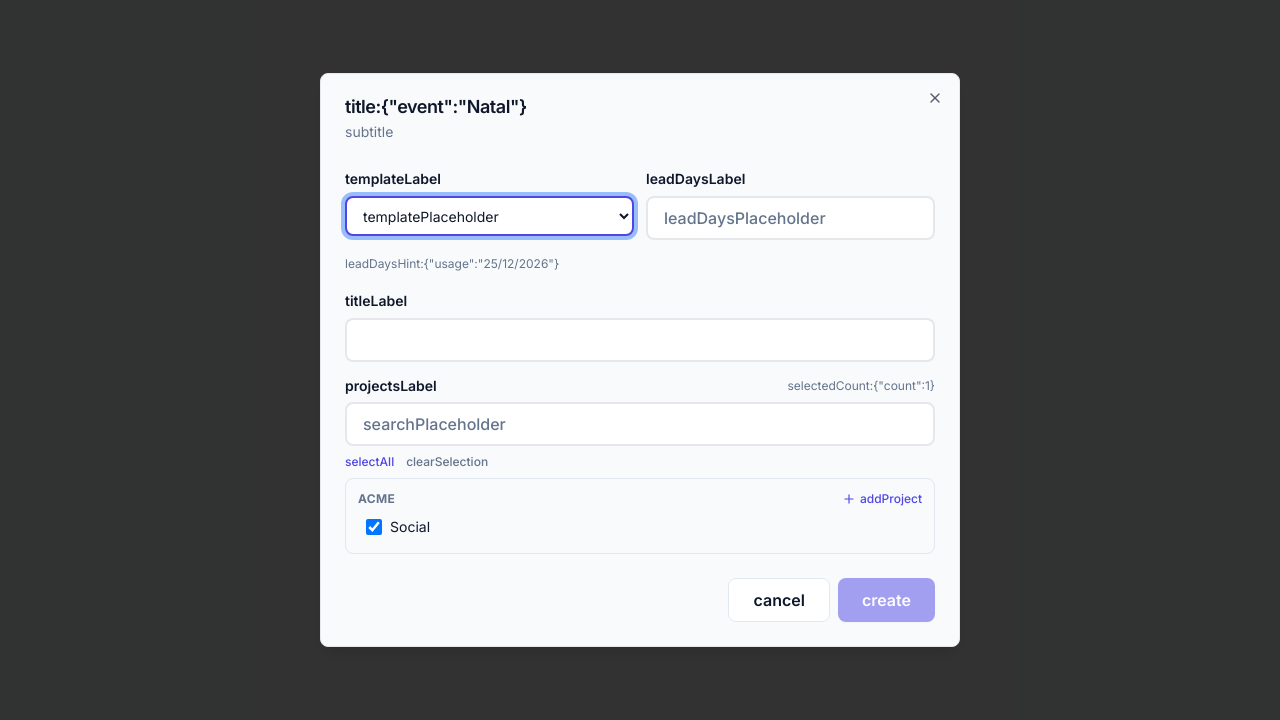
BatchCreateDialog — planejamento para trás › sem previsão no fluxo: degrada, não bloqueia
Select "Campanha" in the dropdown labelled "templateLabel": (490, 216) x1=345 y1=196 x2=634 y2=236
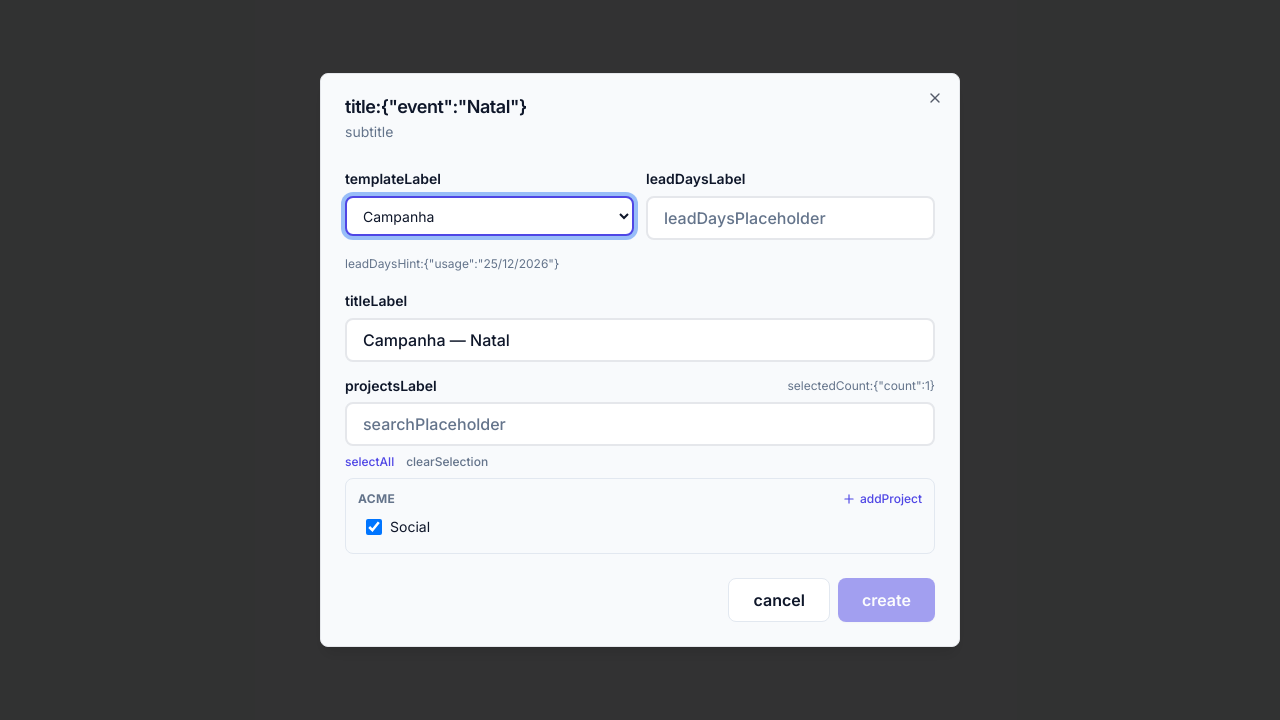
In the number field labelled "leadDaysLabel": (790, 218) x1=646 y1=196 x2=935 y2=240, type "14"
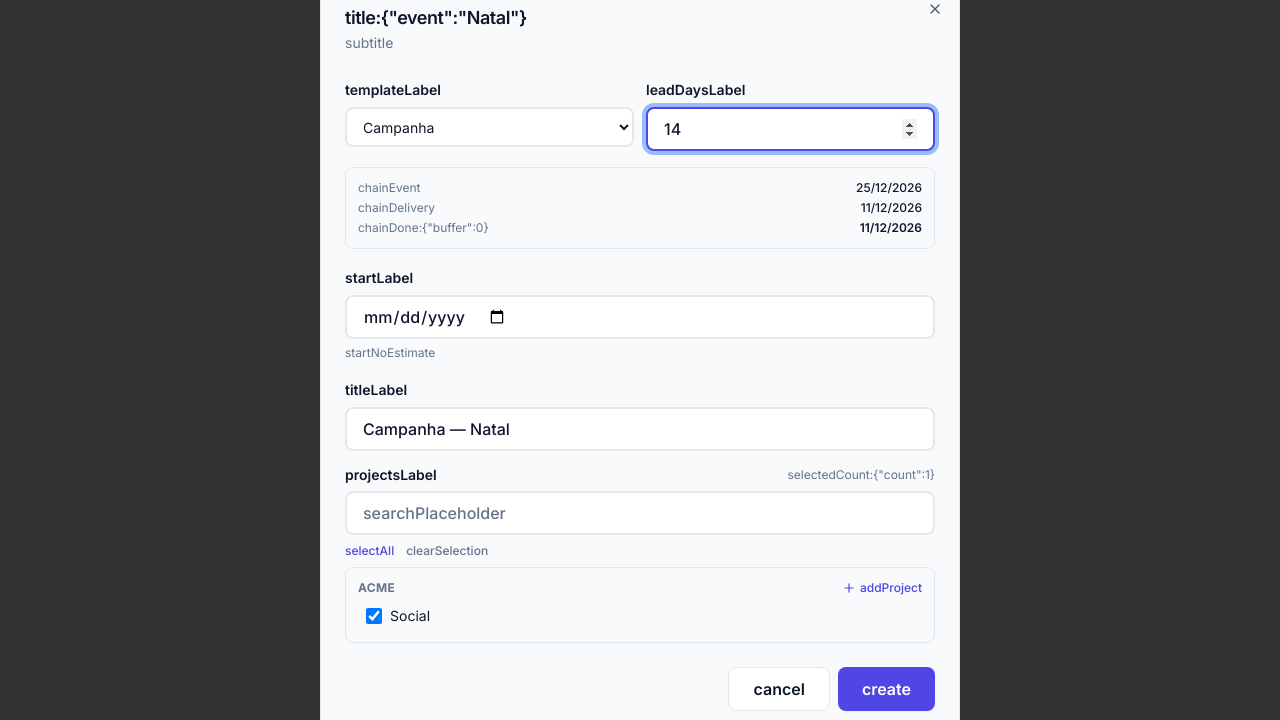
Expected: the text "startNoEstimate" is shown, x1=345 y1=345 x2=435 y2=360
Expected: the date field labelled "startLabel" is empty, x1=345 y1=295 x2=935 y2=339
Expected: the button "create" is enabled, x1=838 y1=667 x2=935 y2=711
